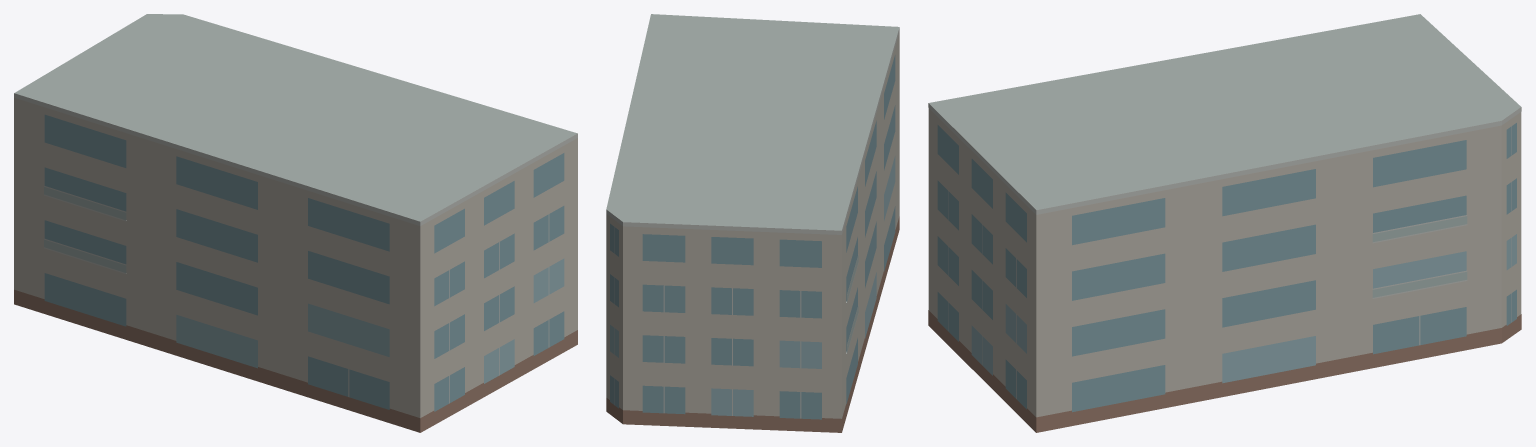
Rendered from survey-upis-32746319.glb.
3 renders of one model, left to right at view 1: azimuth 30°, elevation 25°; view 2: azimuth 150°, elevation 25°; view 3: azimuth 270°, elevation 25°, orthographic. The views are drawn at different scales.
Parts seen in each view (by area): view 1: survey-upis-32746319.tmp; view 2: survey-upis-32746319.tmp; view 3: survey-upis-32746319.tmp.
Part boxes in pixels (bbox=[...]): survey-upis-32746319.tmp: bbox=[14, 14, 577, 432]; survey-upis-32746319.tmp: bbox=[606, 14, 899, 432]; survey-upis-32746319.tmp: bbox=[928, 14, 1521, 432].
Bounding box in the file's own units: 21.94 × 11.6 × 28.01.
